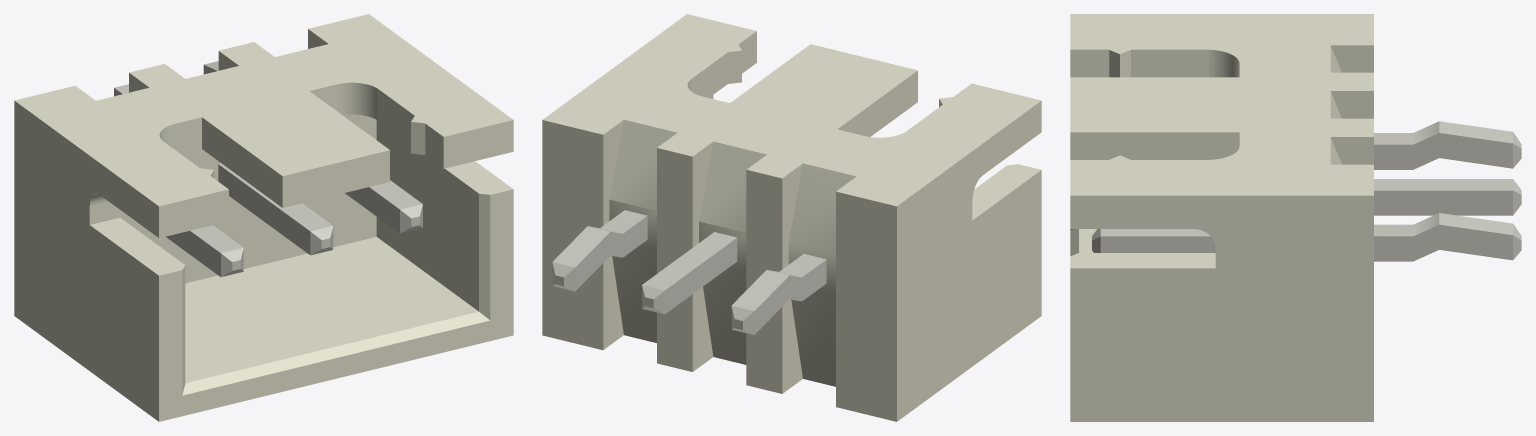
Rendered from jst-xh-3.glb.
3 views of the same model, side by side, from view 1: azimuth 30°, elevation 25°; view 2: azimuth 150°, elevation 25°; view 3: azimuth 270°, elevation 25° (orthographic). The views are drawn at different scales.
Parts seen in each view (by area): view 1: PLASTIC-WHITE-01, PIN-01; view 2: PLASTIC-WHITE-01, PIN-01; view 3: PLASTIC-WHITE-01, PIN-01.
Part boxes in pixels (box(x1,y1,x2,y2)): PLASTIC-WHITE-01: box(14, 14, 513, 421); PIN-01: box(114, 61, 422, 276); PLASTIC-WHITE-01: box(542, 14, 1041, 421); PIN-01: box(552, 210, 826, 334); PLASTIC-WHITE-01: box(1070, 14, 1373, 421); PIN-01: box(1092, 121, 1521, 261).
Size of the model in its own units: 9.9 by 5.75 by 10.4.
